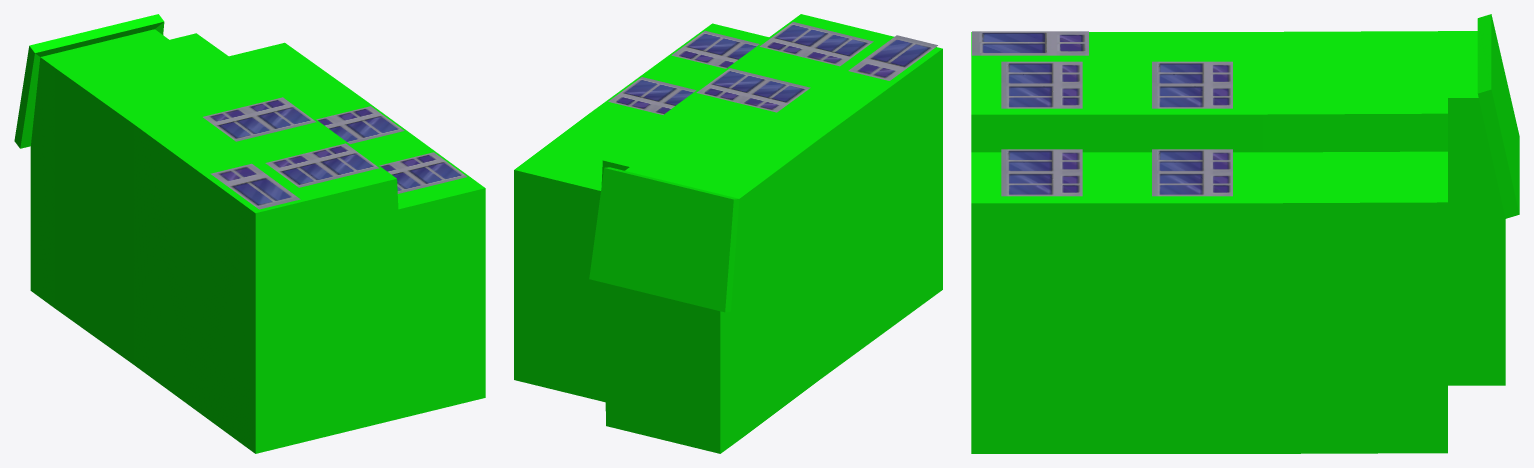
Rendered from building_3s_02.FBX.
3 renders of one model, left to right at view 1: azimuth 30°, elevation 25°; view 2: azimuth 150°, elevation 25°; view 3: azimuth 270°, elevation 25°, orthographic. The views are drawn at different scales.
Visible parts, largest first — view 1: building_3s_02; view 2: building_3s_02; view 3: building_3s_02.
Part boxes in pixels (bbox=[...]): building_3s_02: bbox=[14, 14, 485, 453]; building_3s_02: bbox=[514, 14, 942, 453]; building_3s_02: bbox=[971, 14, 1519, 453].
Size of the model in its own units: 8.41 by 8.36 by 13.81.
